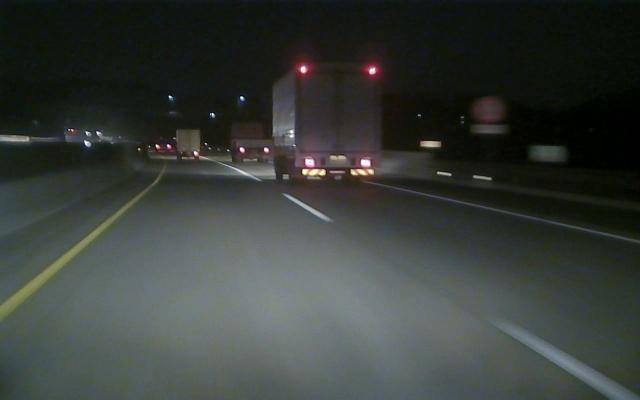lane: (283, 191, 640, 400), (1, 192, 143, 319), (371, 182, 637, 244)
